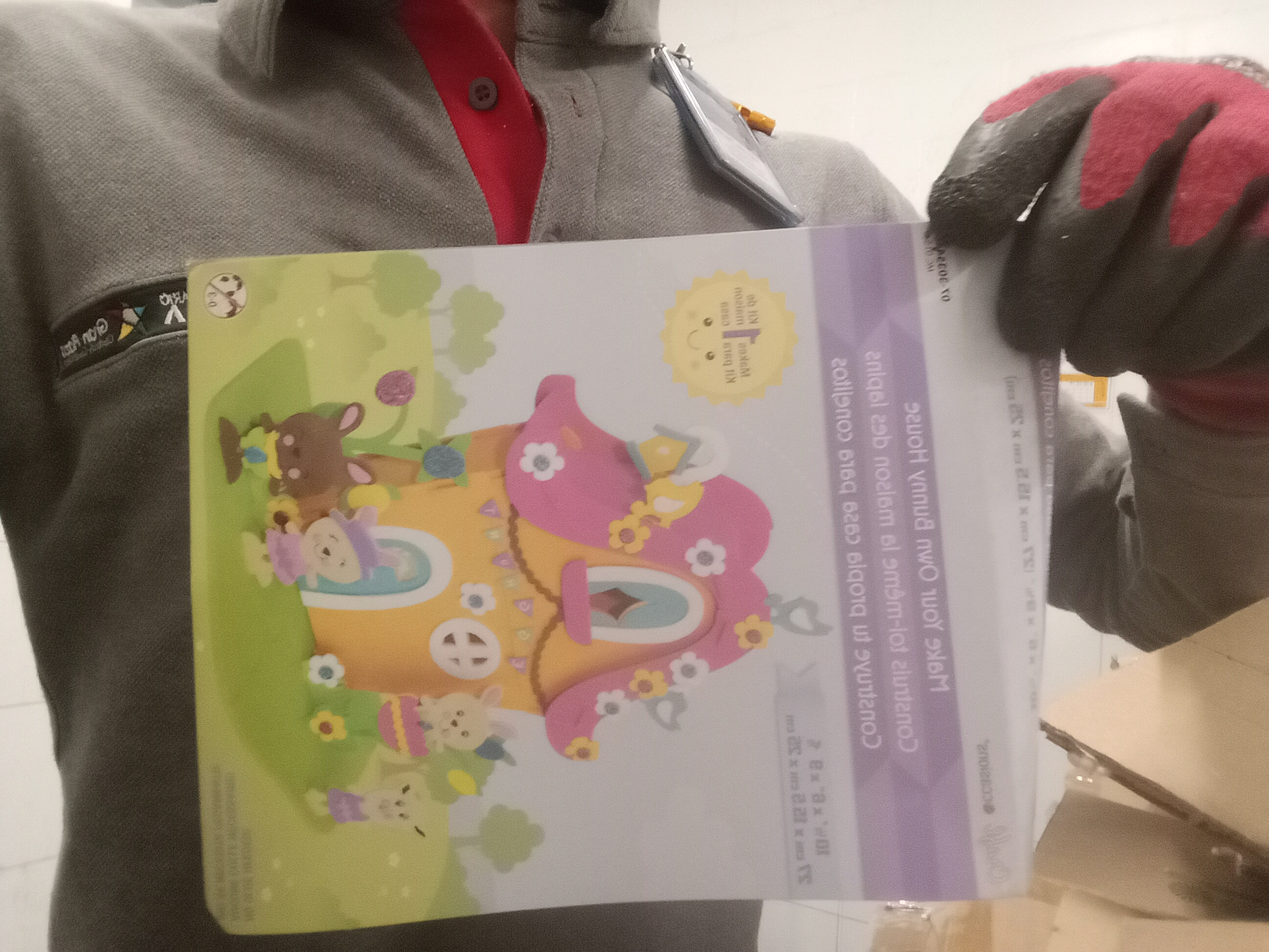Carton: (187, 222, 1053, 933)
